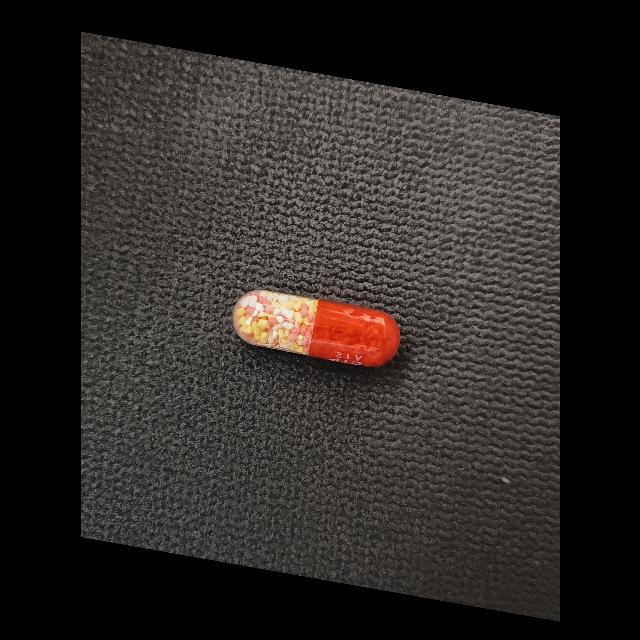Intact Capsule: (232, 290, 400, 367)
